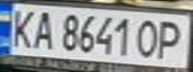1: (112, 15, 136, 56)
4: (93, 14, 115, 56)
6: (75, 11, 96, 54)
8: (57, 10, 81, 52)
A: (27, 7, 57, 51)
K: (3, 6, 39, 49)
O: (133, 16, 163, 58)
P: (151, 17, 187, 61)
